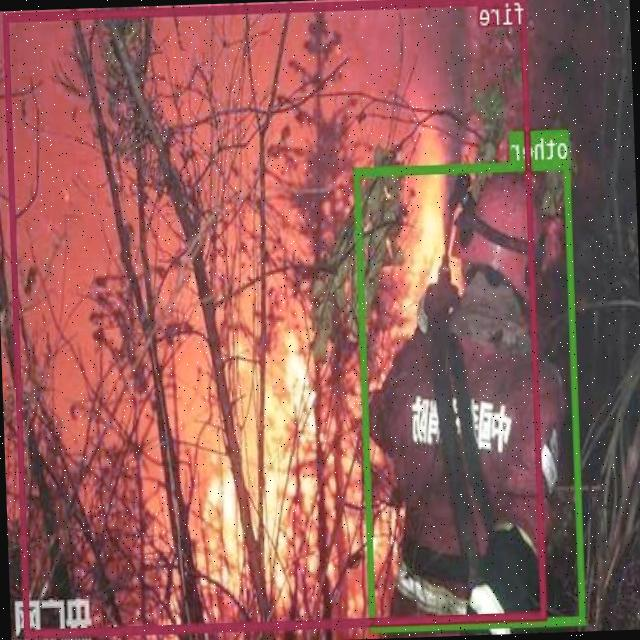fire: (3, 0, 548, 636)
